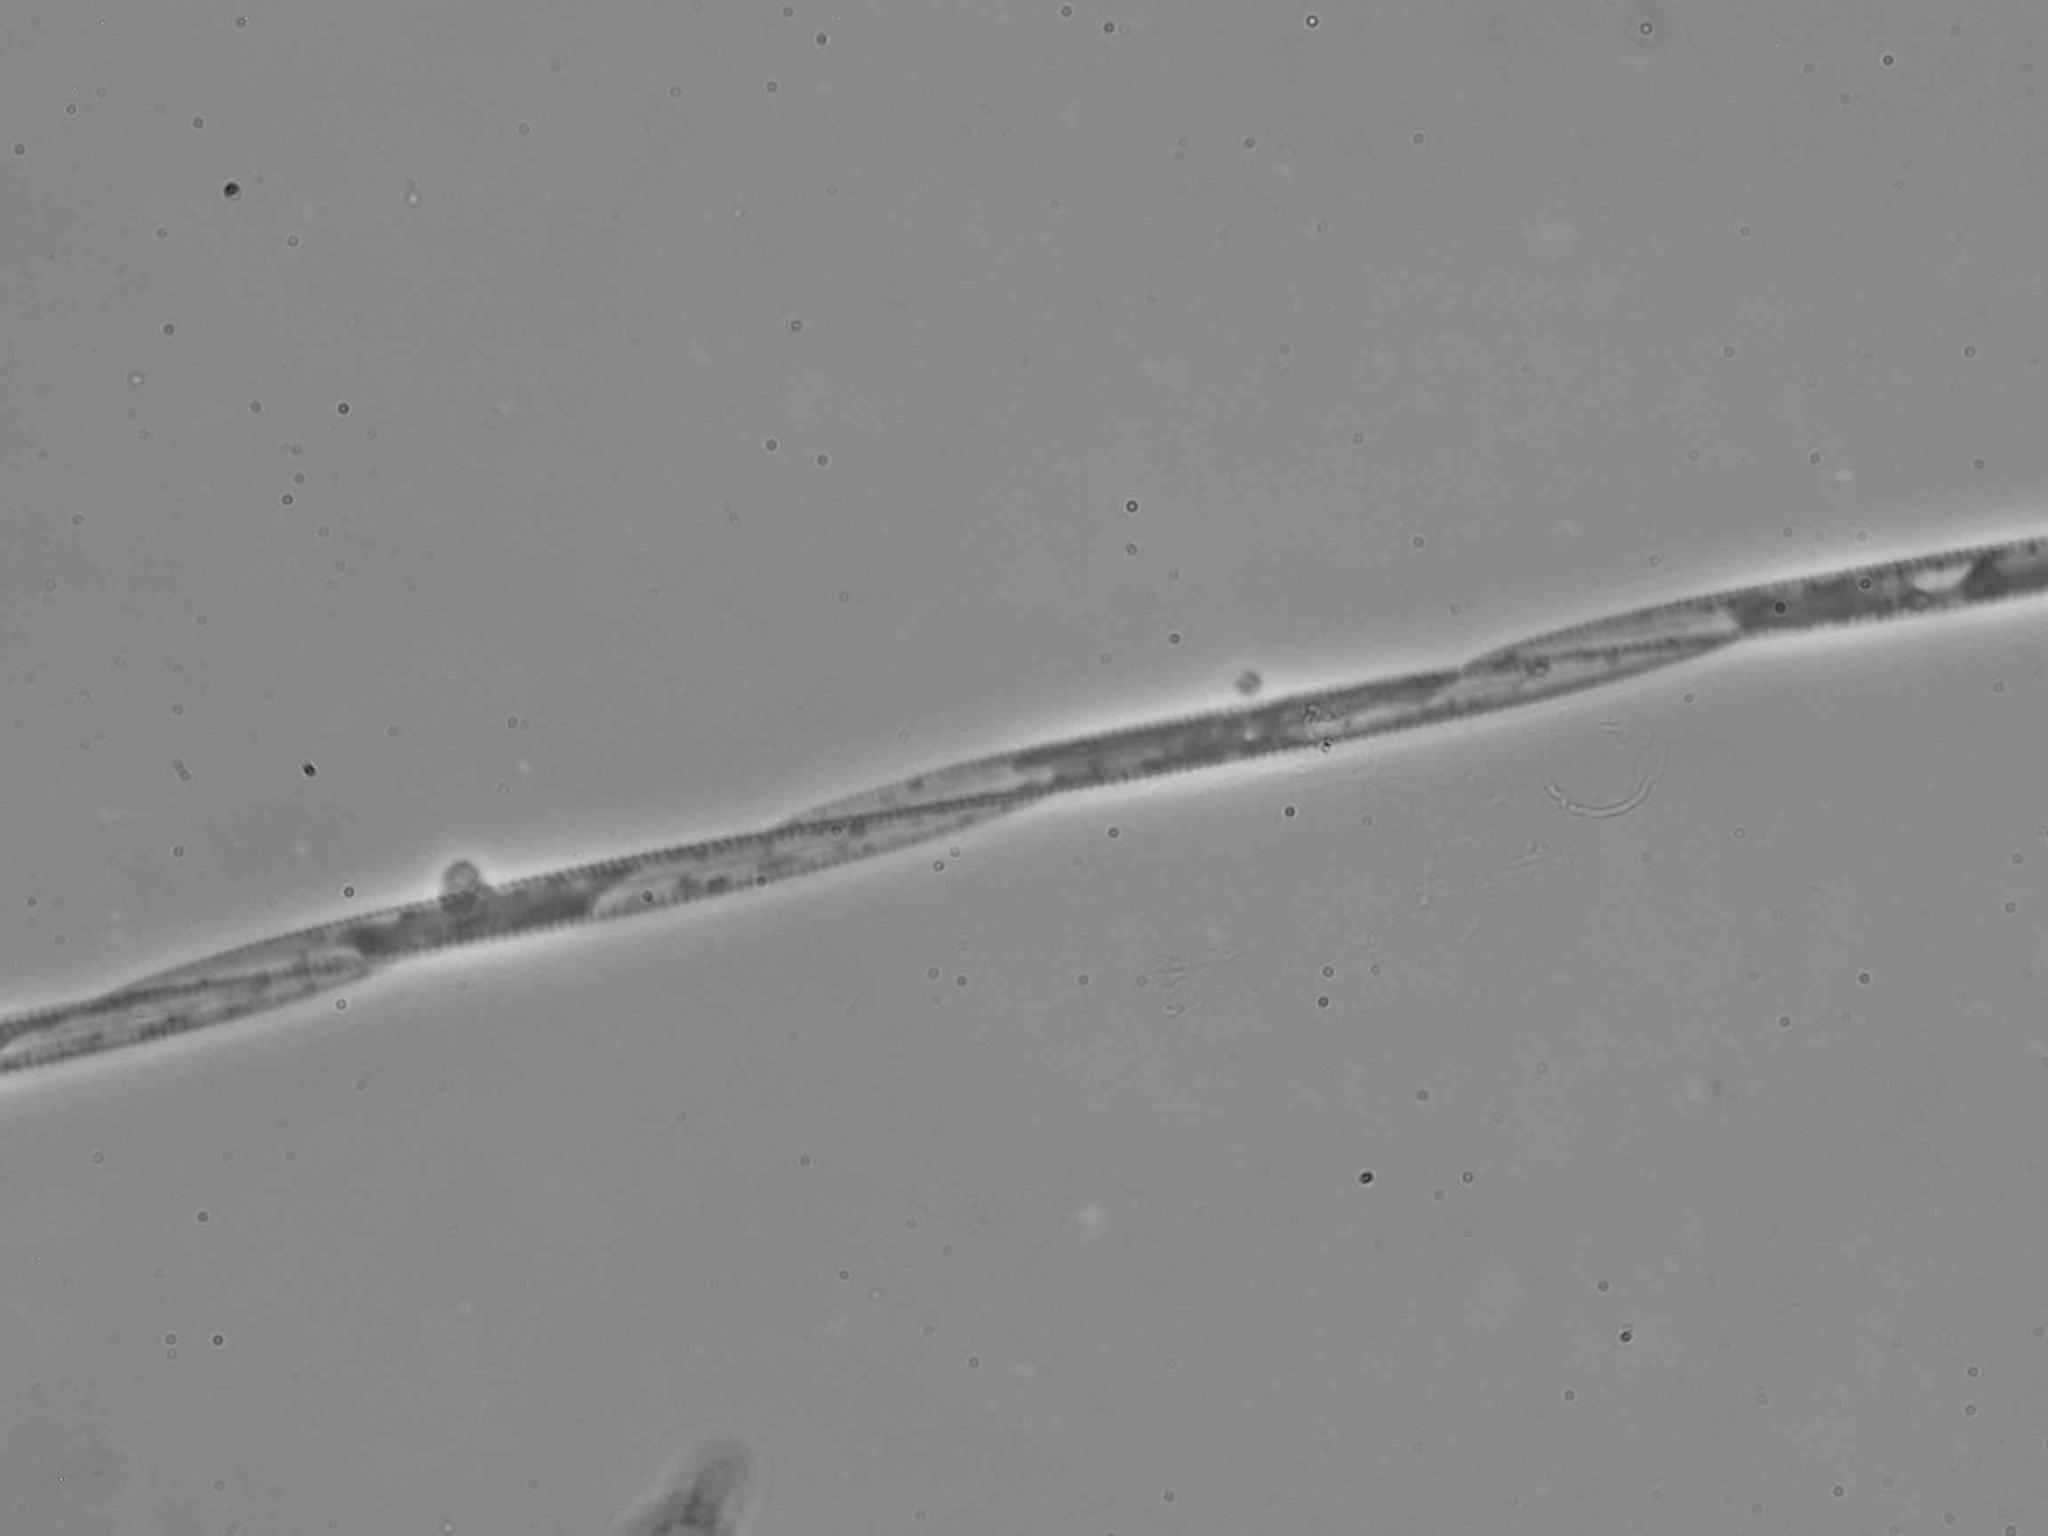pseudo_nitzschia: (0, 534, 2046, 1075)
